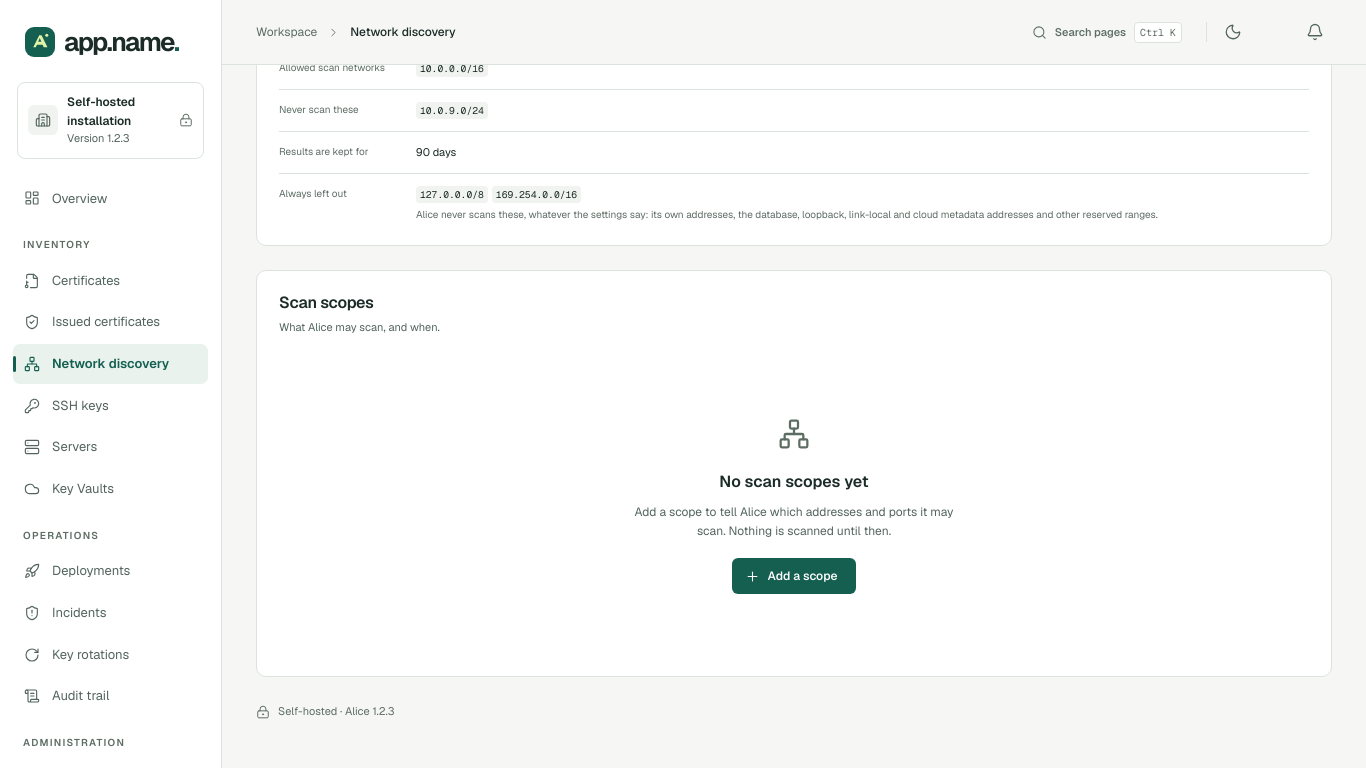
Test: the scope dialog › checks the form before sending
(page scrolled)
Click the button "Add a scope" at (794, 576), box 732,558 -> 856,594
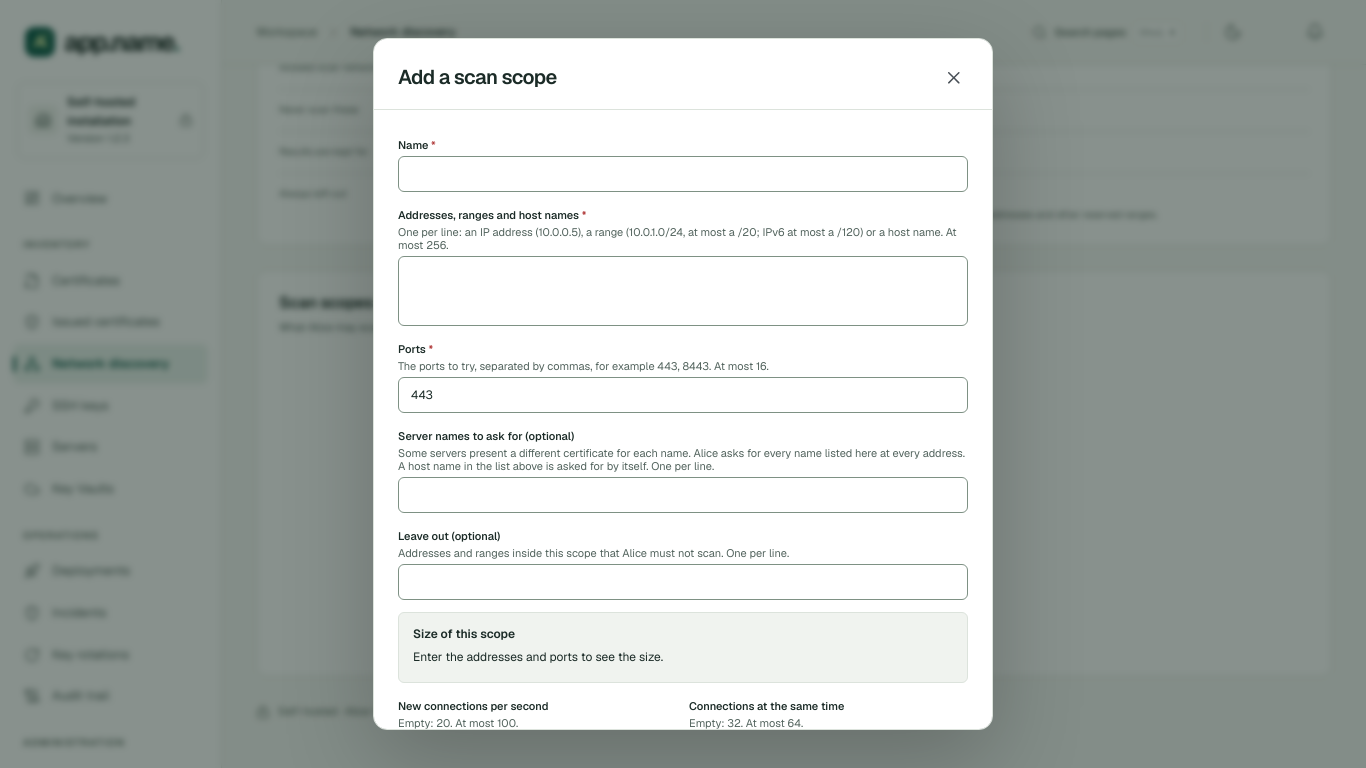
Replace the text in the field labelled "Ports" with "70000" at (683, 395), box 398,377 -> 968,413
(page scrolled)
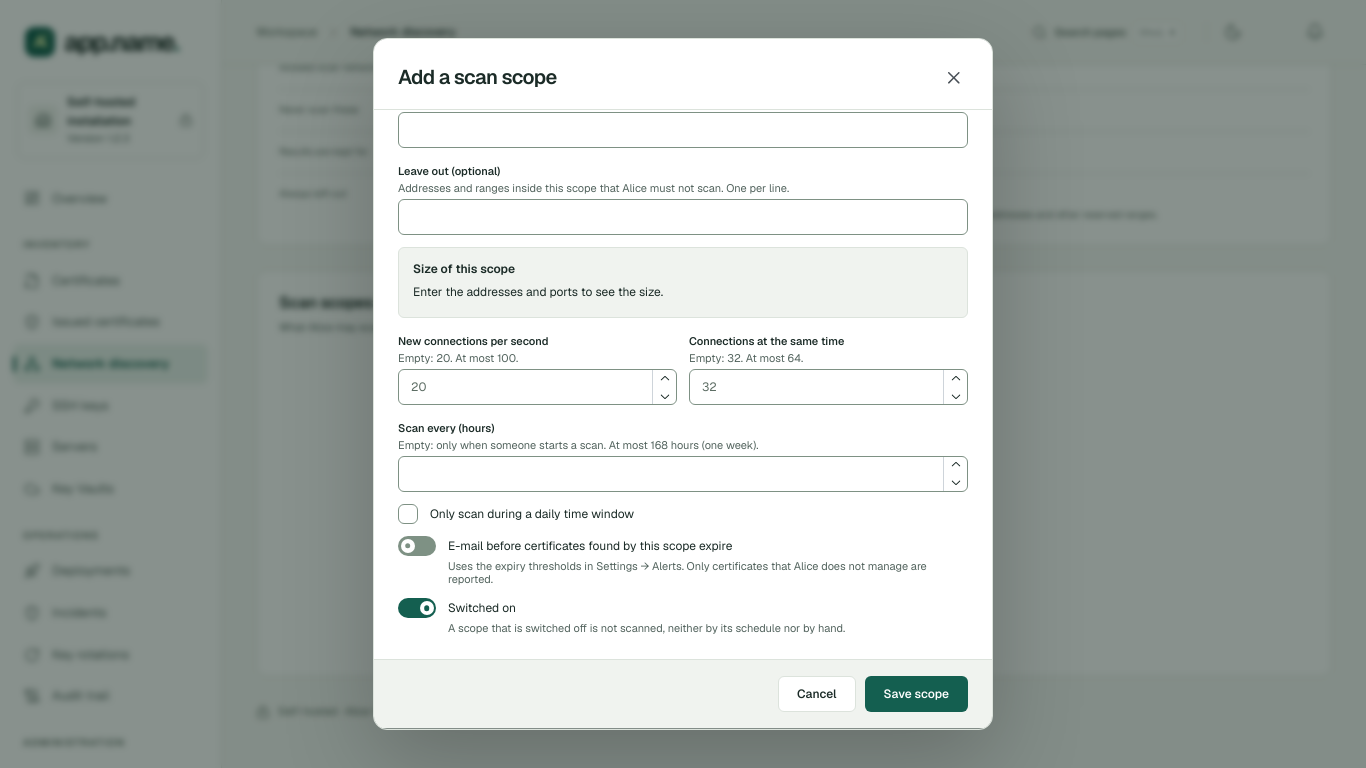
Type "500" into the field labelled "New connections per second" at (538, 387), box 398,369 -> 677,405
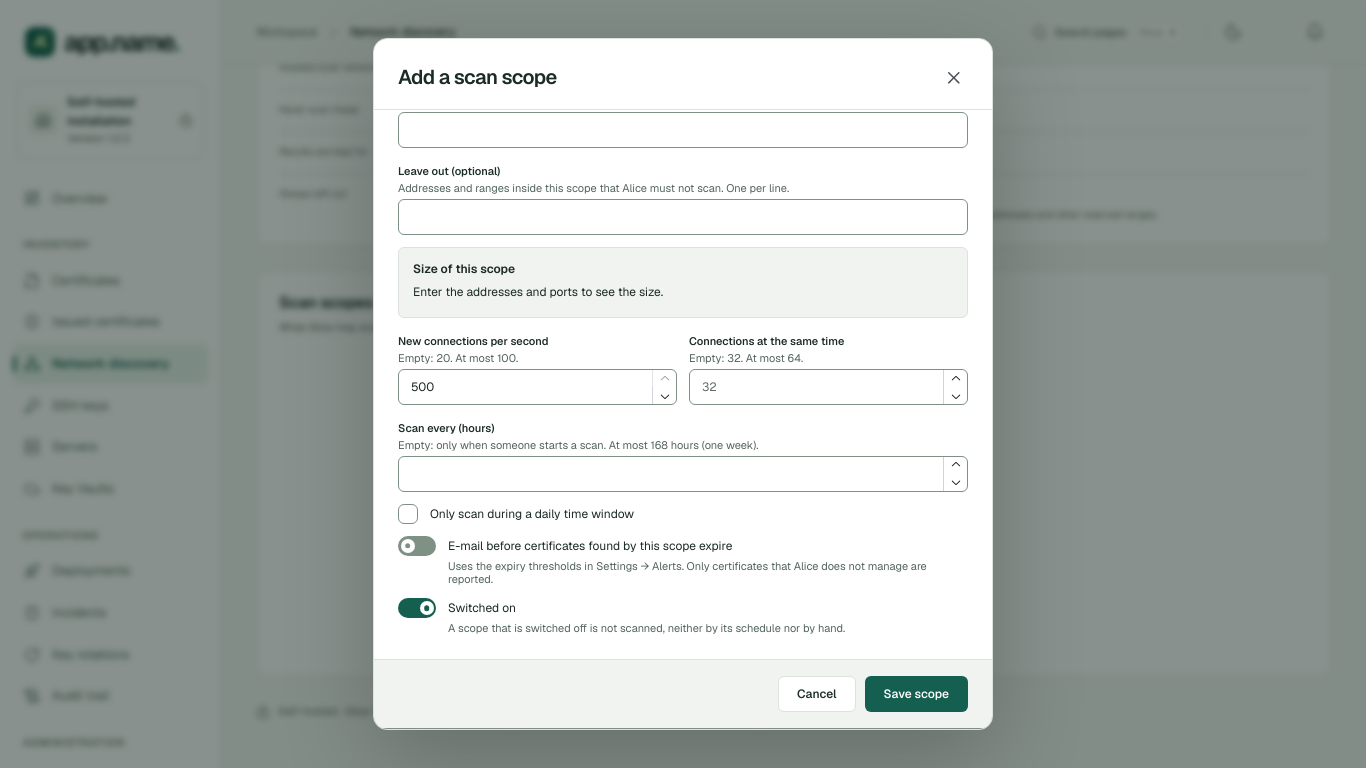
Click the checkbox labelled "Only scan during a daily time window" at (408, 514), box 398,504 -> 418,524
(page scrolled)
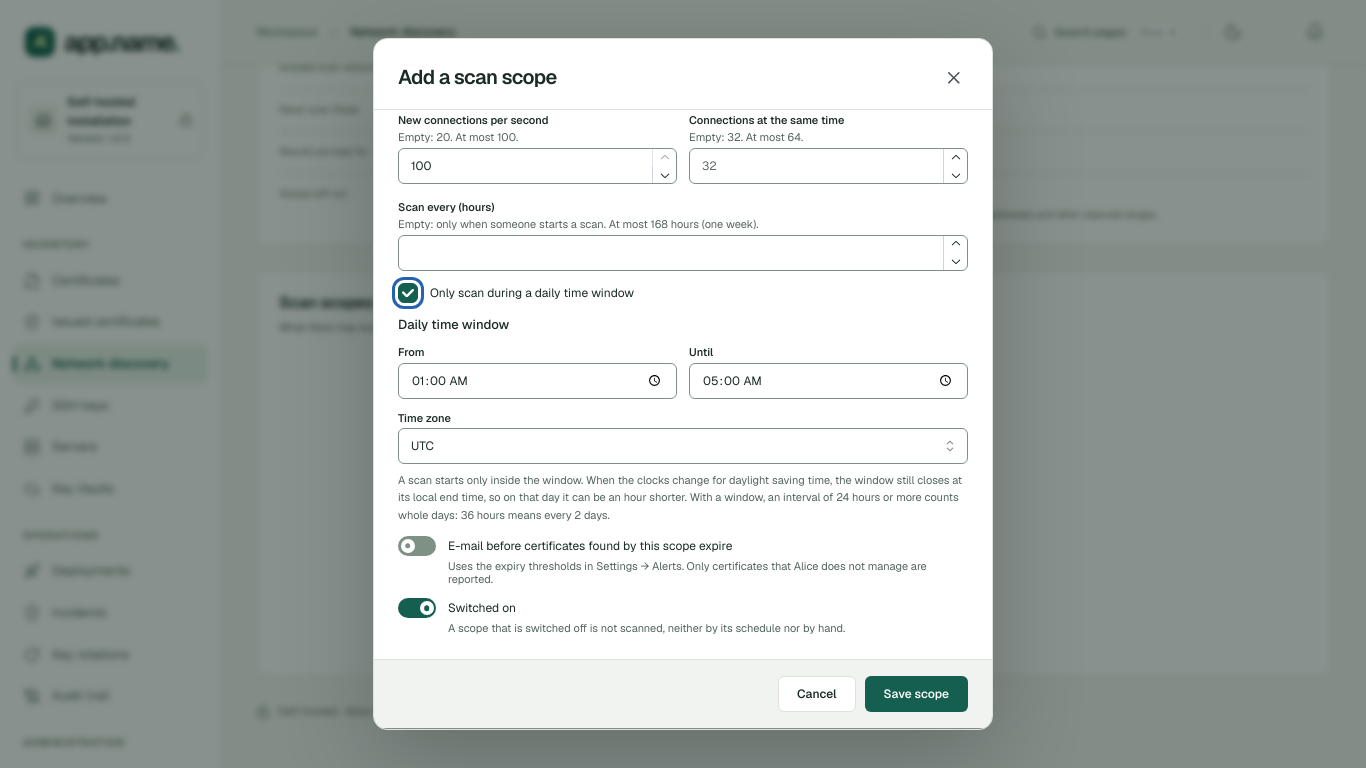
Click the button "Save scope" at (916, 694), box 865,676 -> 968,712
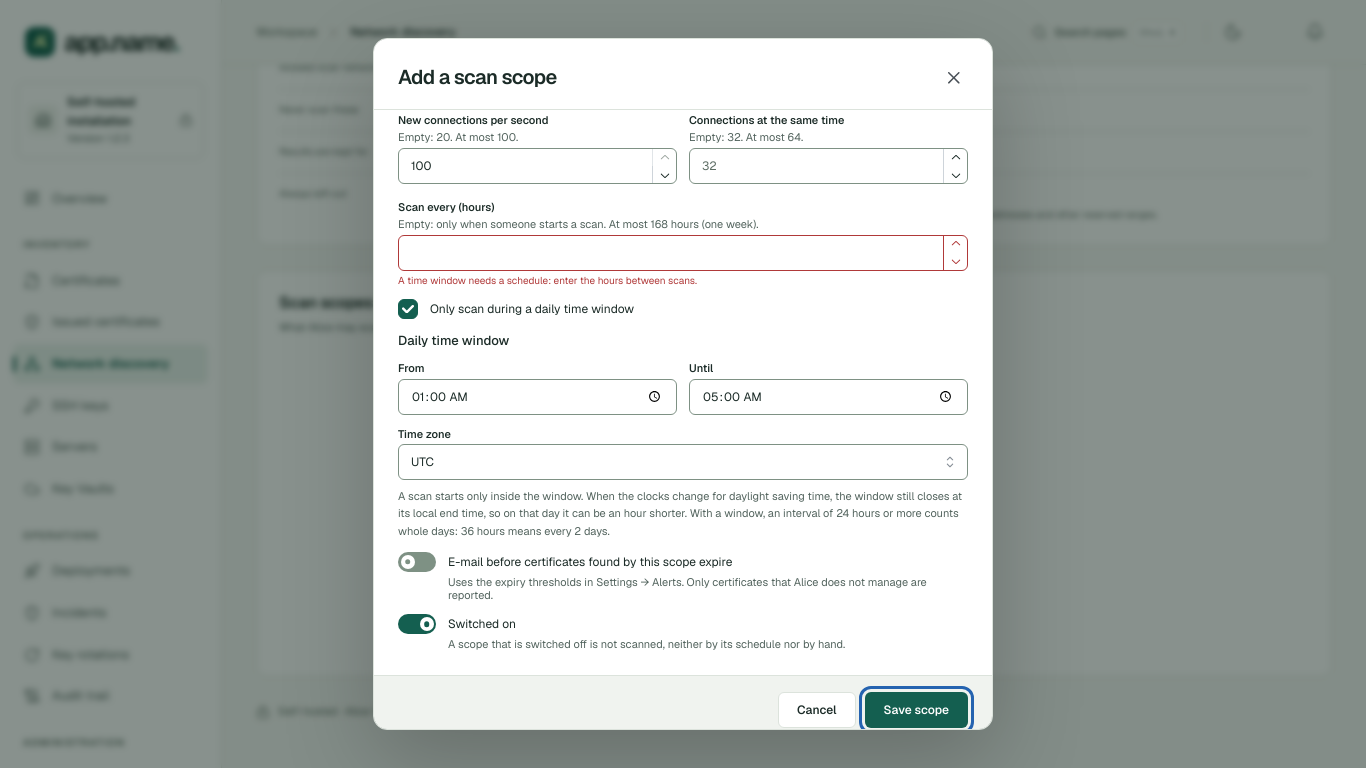
Result: the text "A time window needs a schedule: enter the hours between scans." is shown at 398,274 -> 697,287
